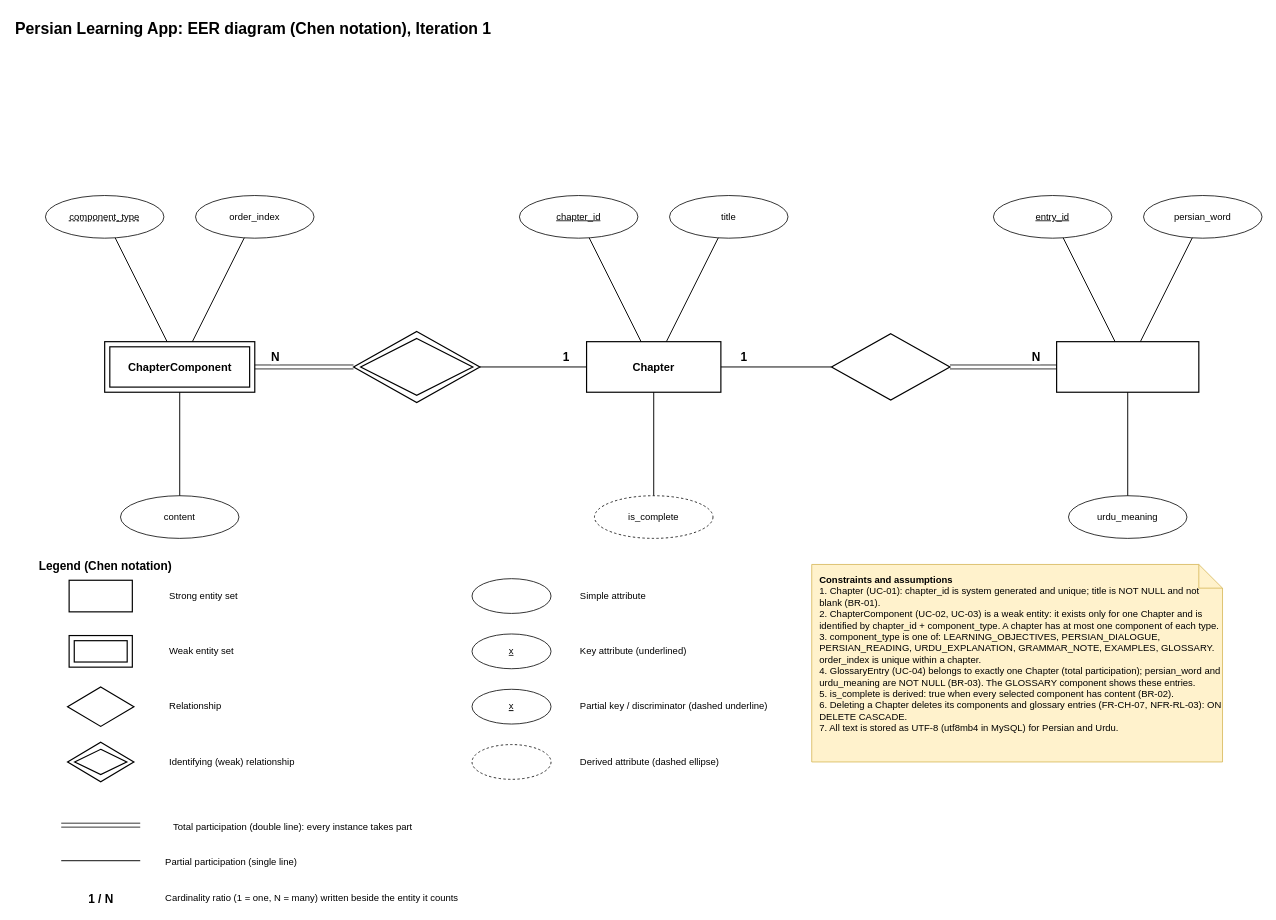
The diagram is 1276 pixels wide and 920 high, and some of its shapes have lost their labels. The centre of each missing label's shape, as x and y in pixels:
"Contains" goes at [416,366].
"GlossaryEntry" goes at [1127,366].
"Owns" goes at [890,366].
